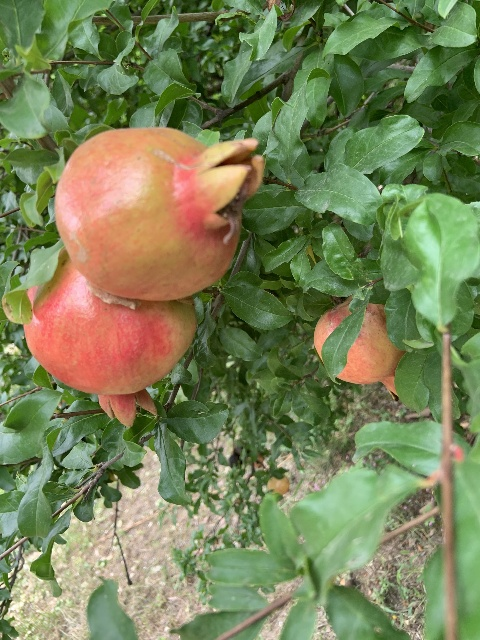mid-growth: (267, 475, 289, 494)
ripe: (54, 126, 264, 300), (23, 258, 197, 427), (313, 301, 406, 401)
